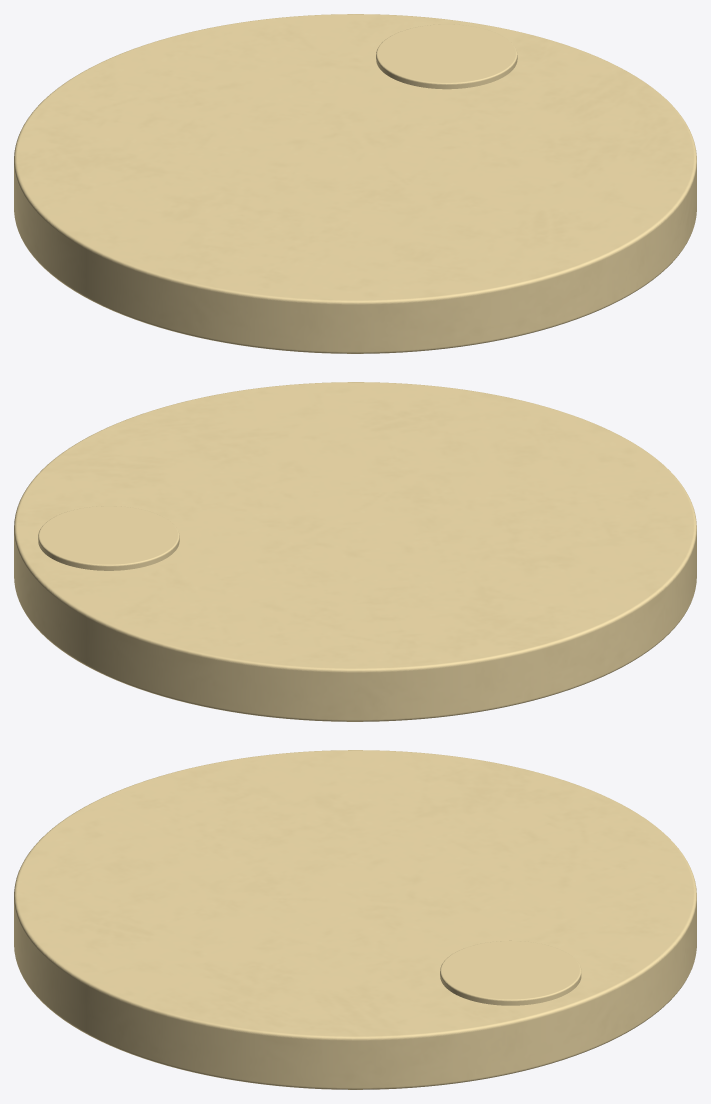
Rendered from ArcheBaseGold.glb.
3 renders of one model, top to bottom at view 1: azimuth 30°, elevation 25°; view 2: azimuth 150°, elevation 25°; view 3: azimuth 270°, elevation 25°, orthographic.
Parts seen in each view (by area): view 1: Base; view 2: Base; view 3: Base.
Boxes of the visible parts, left/top/right/bottom form: Base: left=14, top=14, right=696, bottom=353; Base: left=14, top=382, right=696, bottom=721; Base: left=14, top=750, right=696, bottom=1089.
Bounding box in the file's own units: 0.0687 × 0.00653 × 0.0687.
Materials: 1 (1 with a texture image).
